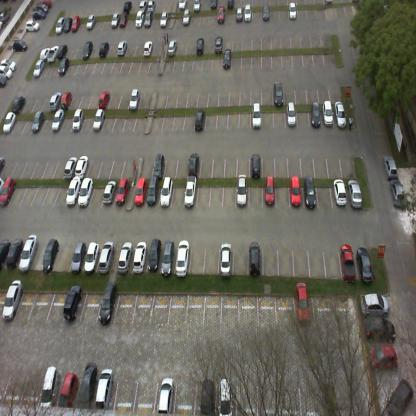car: (382, 375, 412, 415), (77, 362, 99, 410), (2, 279, 24, 323), (40, 364, 61, 410), (361, 317, 396, 344), (61, 289, 86, 326), (96, 363, 115, 410), (292, 279, 310, 325), (358, 292, 390, 317), (96, 288, 118, 324), (19, 233, 38, 273), (354, 240, 374, 277), (366, 344, 398, 367), (58, 370, 77, 408), (6, 232, 25, 270), (145, 240, 165, 275), (158, 374, 174, 415), (41, 239, 60, 273), (68, 240, 87, 274), (218, 377, 235, 415), (76, 176, 94, 210), (144, 177, 162, 211), (0, 172, 18, 206), (82, 240, 100, 273), (340, 241, 356, 278), (160, 241, 177, 274), (174, 243, 191, 276), (344, 176, 362, 206), (200, 377, 214, 415), (65, 176, 81, 209), (113, 177, 129, 210), (156, 178, 172, 211), (132, 240, 148, 273), (217, 242, 233, 275), (100, 178, 116, 210), (96, 244, 113, 274), (248, 240, 263, 274), (118, 242, 134, 272), (390, 180, 406, 210), (382, 152, 398, 181), (0, 234, 12, 272), (133, 177, 146, 212), (73, 154, 91, 179), (330, 179, 345, 208), (288, 180, 304, 207), (235, 179, 249, 209), (262, 178, 276, 208), (90, 106, 106, 132), (304, 178, 317, 209), (50, 107, 66, 132), (332, 101, 347, 127), (186, 152, 201, 178), (63, 152, 78, 178), (248, 150, 262, 177), (272, 79, 285, 108), (184, 179, 196, 210), (149, 154, 163, 180), (71, 106, 85, 132), (30, 110, 45, 133), (49, 86, 63, 110), (2, 110, 16, 134), (194, 107, 206, 133), (128, 85, 140, 111), (97, 88, 111, 110), (60, 88, 74, 110), (11, 94, 26, 114), (311, 102, 322, 128), (321, 104, 334, 126), (31, 58, 45, 78), (58, 55, 72, 74), (54, 43, 68, 62), (82, 39, 94, 60), (252, 105, 262, 130), (12, 38, 28, 53), (53, 15, 65, 35), (286, 105, 297, 126), (166, 38, 177, 59), (47, 43, 59, 62), (221, 48, 231, 70), (141, 39, 153, 57), (196, 34, 206, 55), (116, 39, 127, 58), (243, 1, 252, 24), (98, 40, 110, 57), (261, 0, 270, 22), (216, 4, 225, 26), (84, 13, 95, 31), (117, 11, 128, 29), (133, 10, 144, 28), (36, 3, 50, 17), (214, 34, 223, 55), (0, 59, 17, 70), (23, 20, 40, 31), (0, 65, 13, 79), (288, 0, 297, 20), (110, 12, 121, 28), (70, 15, 80, 32), (144, 8, 152, 29), (160, 8, 168, 29), (38, 45, 50, 58), (182, 8, 190, 27), (29, 10, 44, 20), (235, 6, 243, 24), (64, 16, 72, 33), (176, 0, 187, 11), (193, 0, 201, 14), (227, 0, 235, 13), (147, 0, 155, 12), (0, 74, 7, 87), (124, 0, 132, 11), (210, 0, 218, 9), (138, 0, 147, 8)
